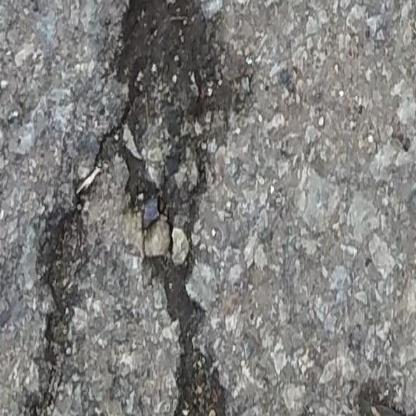Cracks: (24, 0, 261, 416), (351, 382, 416, 416)
